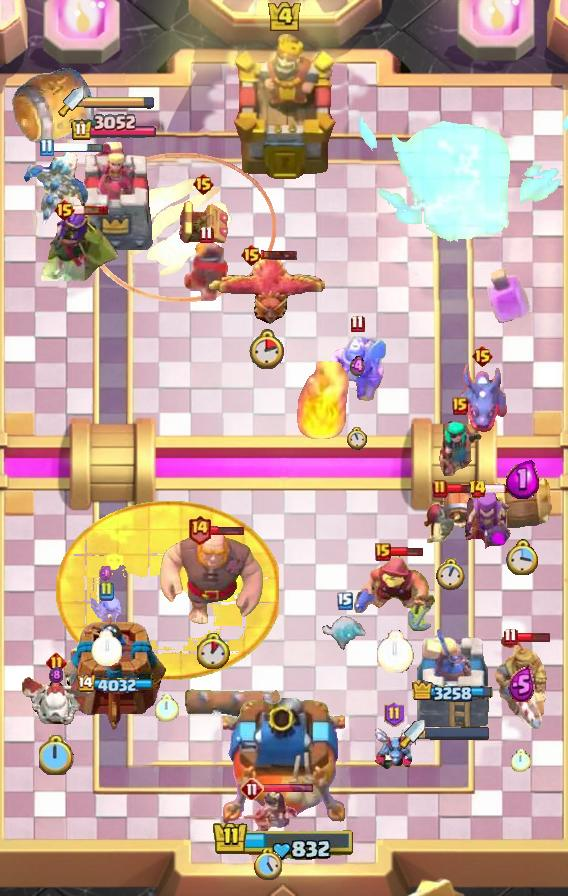balloon: (160, 532, 266, 628)
bandit: (326, 333, 388, 403)
bar: (73, 140, 155, 256), (414, 623, 492, 731)
barbarian-hut: (34, 207, 124, 281)
bat: (321, 613, 369, 653)
clock: (212, 820, 356, 862)
dirt: (11, 65, 97, 147)
electro-spirit: (505, 460, 539, 499), (509, 667, 535, 701), (351, 354, 366, 378), (49, 666, 63, 684), (99, 566, 113, 582)
elixir: (377, 631, 414, 674), (248, 329, 284, 369), (39, 735, 74, 775), (505, 539, 539, 575), (198, 633, 231, 669), (91, 630, 122, 666), (435, 558, 464, 590), (254, 849, 282, 880), (155, 694, 179, 722), (347, 426, 367, 449), (511, 748, 531, 771)
emote: (51, 142, 105, 155), (262, 782, 314, 793), (446, 482, 481, 495), (262, 249, 299, 261), (484, 483, 521, 495), (73, 204, 109, 216), (210, 524, 245, 536), (389, 546, 424, 558), (517, 631, 552, 643)
fireball: (352, 556, 438, 634)
firecracker: (183, 243, 229, 301)
goblin-brawler: (176, 197, 230, 247)
graveyard: (455, 362, 509, 434)
heal-spirit: (91, 593, 121, 627)
ice-wizard: (88, 153, 277, 302)
king-tower: (223, 698, 345, 826), (231, 35, 337, 182)
king-tower-bar: (84, 95, 156, 109), (425, 727, 489, 740)
knight: (422, 487, 478, 545)
knight-evolution: (487, 267, 531, 324)
mega-knight: (358, 100, 568, 246)
mini-pekka: (20, 147, 90, 231), (13, 672, 99, 728)
minion: (183, 682, 283, 720)
mother-witch: (207, 252, 325, 326)
phoenix-egg: (57, 500, 280, 679)
queen-tower: (62, 613, 166, 731)
ram-rider: (491, 634, 551, 734)
rascal-girl: (463, 487, 513, 549)
royal-delivery: (372, 723, 416, 769)
selected: (70, 114, 158, 142), (413, 679, 496, 704), (75, 675, 153, 695)
skeleton-dragon: (237, 787, 299, 839)
text: (188, 515, 213, 546), (240, 777, 264, 801), (383, 701, 405, 727), (193, 172, 216, 196), (52, 198, 75, 222), (241, 243, 264, 267), (471, 344, 494, 368), (46, 651, 67, 672), (468, 479, 487, 499), (432, 479, 448, 499), (98, 581, 114, 601), (452, 397, 468, 415), (375, 543, 391, 561), (337, 592, 353, 610), (502, 626, 517, 645), (351, 315, 366, 333), (39, 139, 53, 158), (199, 225, 213, 244)
the-log: (485, 477, 559, 529)
valkyrie: (291, 358, 349, 444)
witch: (437, 420, 483, 478)
